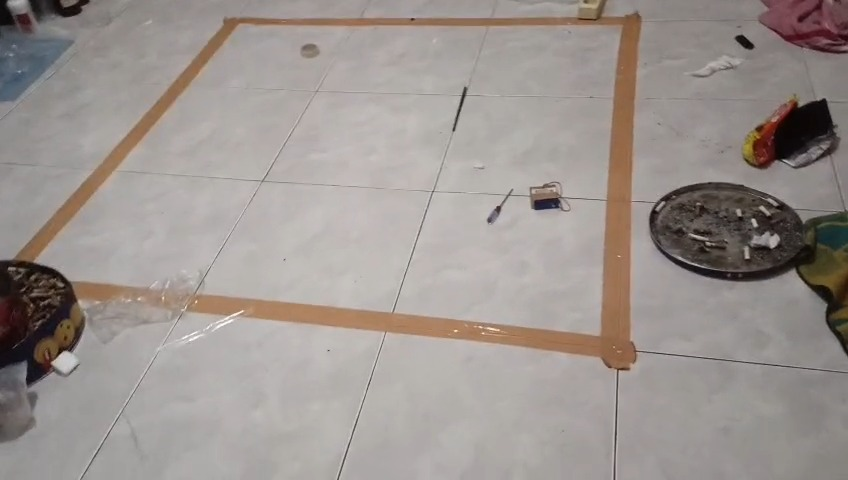floor marking: (190, 14, 640, 369), (18, 17, 591, 259), (75, 282, 139, 299)
